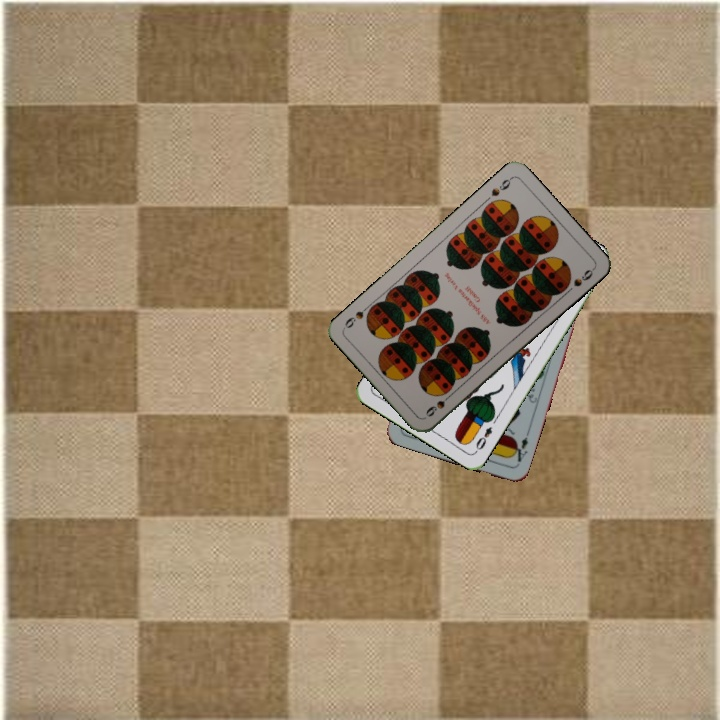EA: (508, 433, 531, 468)
EO: (471, 422, 495, 455)
S9: (421, 389, 455, 419), (487, 173, 515, 199)
